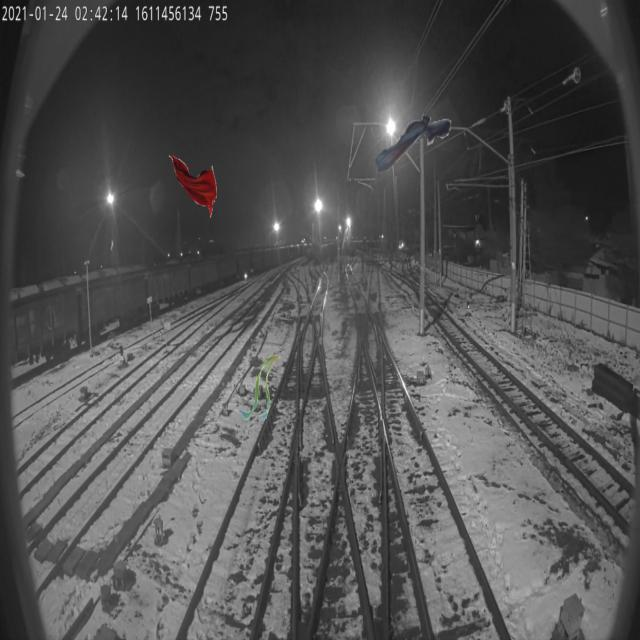floating object: (376, 110, 452, 174), (168, 154, 218, 218), (240, 356, 282, 420)
